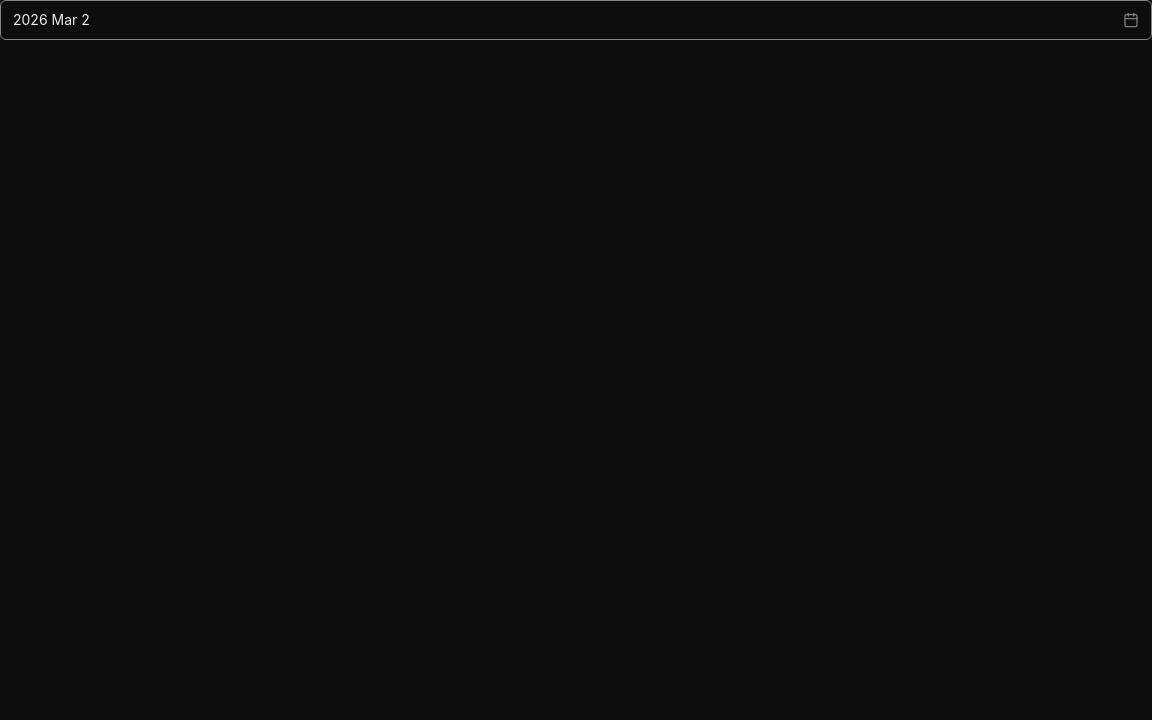
Test: DatePickerField › renders a picker-only date field and emits yyyy-mm-dd values from the calendar
Later steps or results of the test are not shown.
Click the button with id "shared-date": x=51, y=20 0,0 -> 1151,40
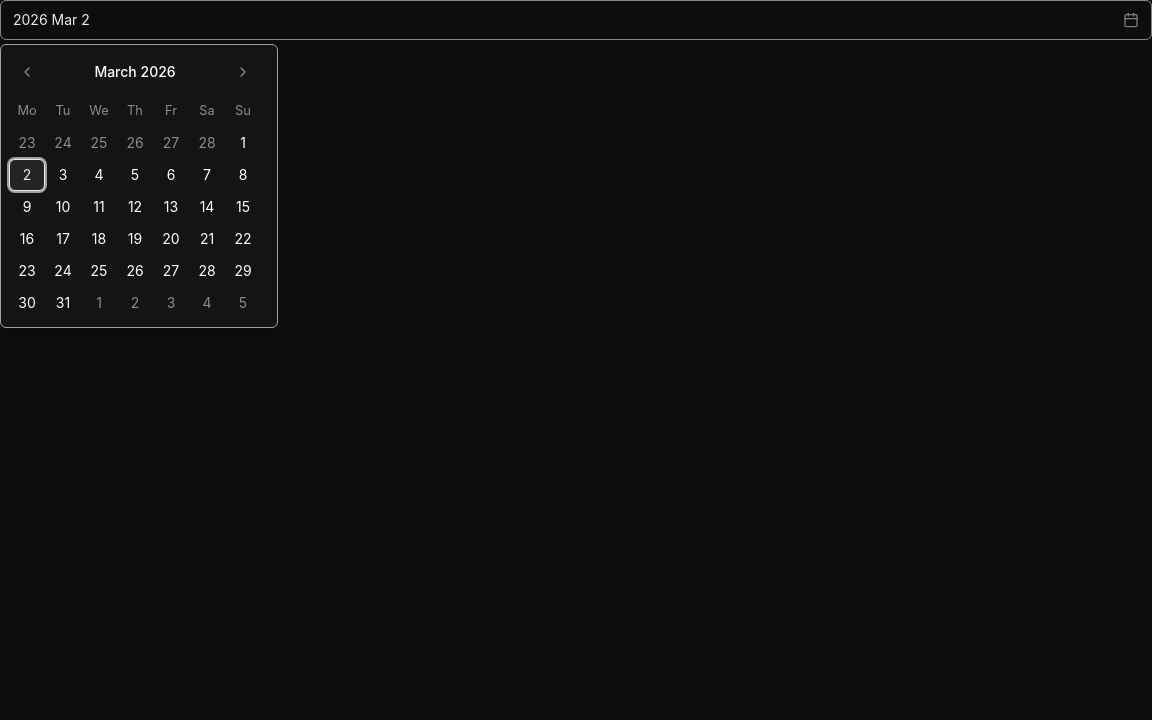
Expected: the cell named "day" is shown, 225,191 -> 261,223
